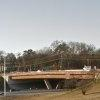Bridge: (10, 60, 91, 89)
